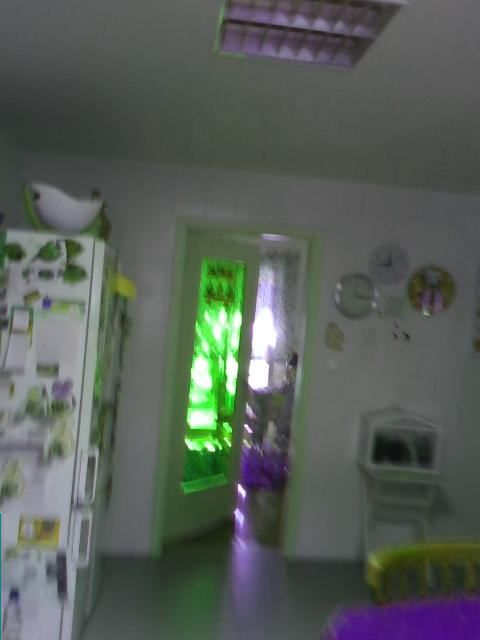semi_door: (147, 215, 322, 562)
